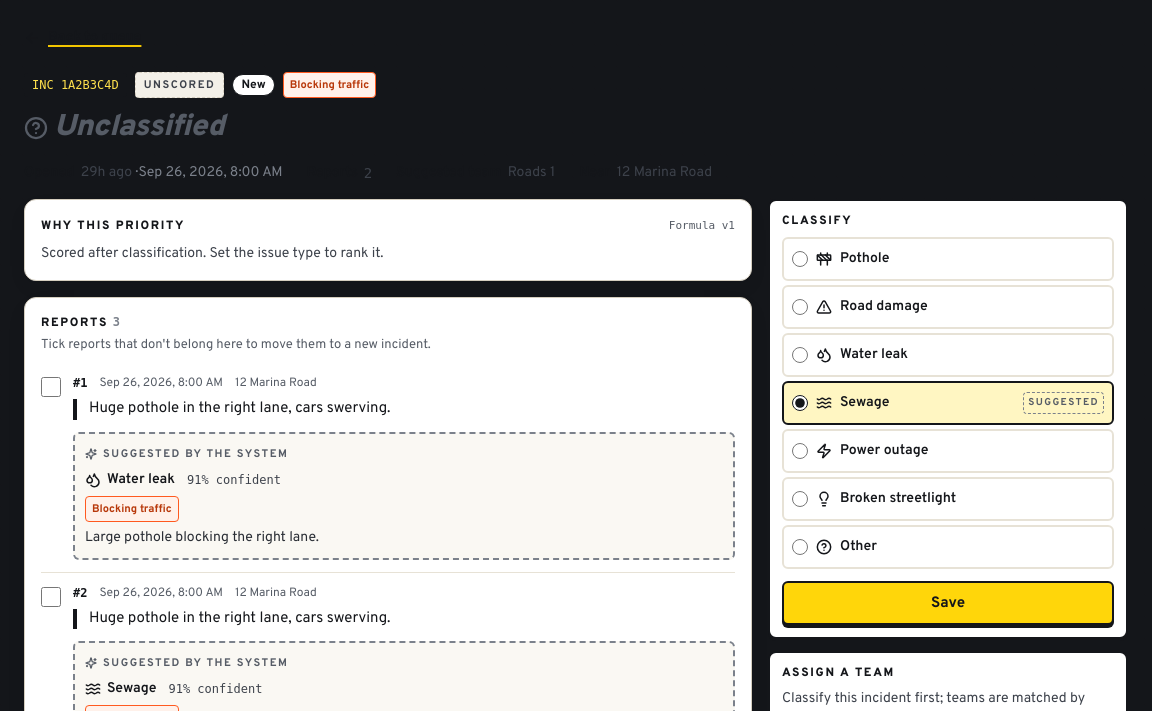
Scenario: Incident page: triage › pre-selects the type the system suggested most, labelled as a suggestion, and saves it
Check: the heading "Unclassified" is shown, box top-left (24, 109), bottom-right (224, 146)
Check: the radio button labelled "Sewage Suggested" is checked, box top-left (792, 395), bottom-right (808, 411)
Click the radio button labelled "Water leak". click: [800, 355]
box: top-left (792, 347), bottom-right (808, 363)
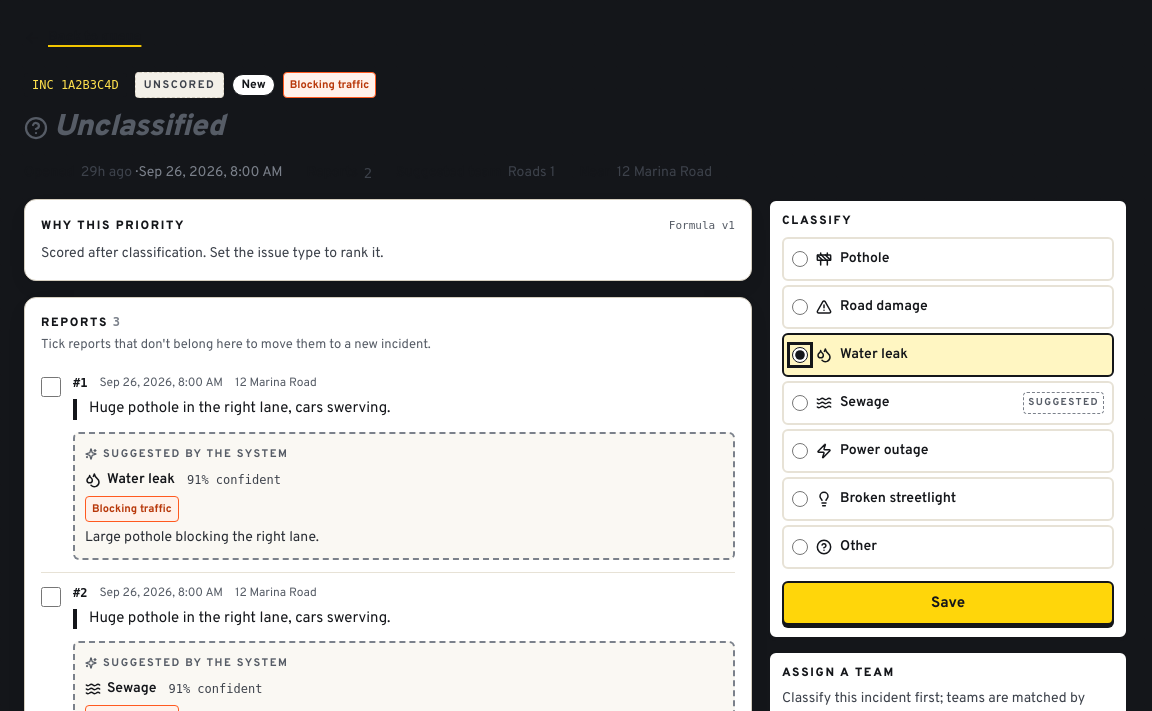
Click the button "Save". click: [948, 603]
box: top-left (782, 581), bottom-right (1114, 625)
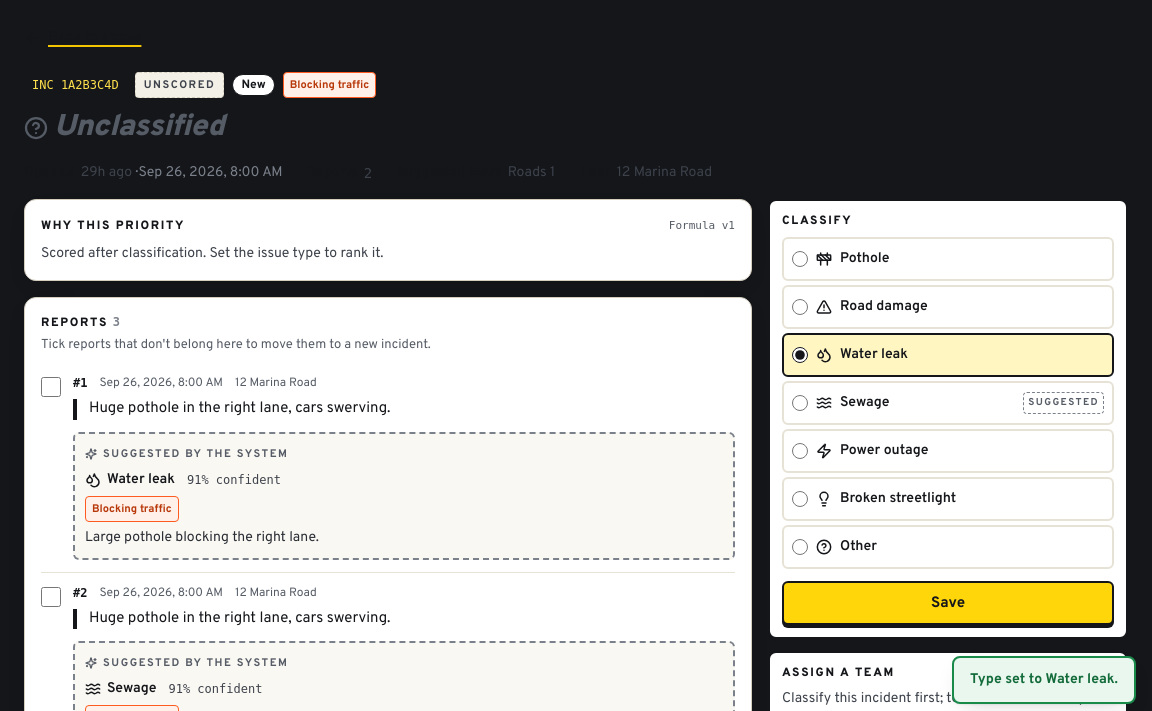
Check: the text "Type set to Water leak." is shown, box top-left (952, 656), bottom-right (1136, 704)
